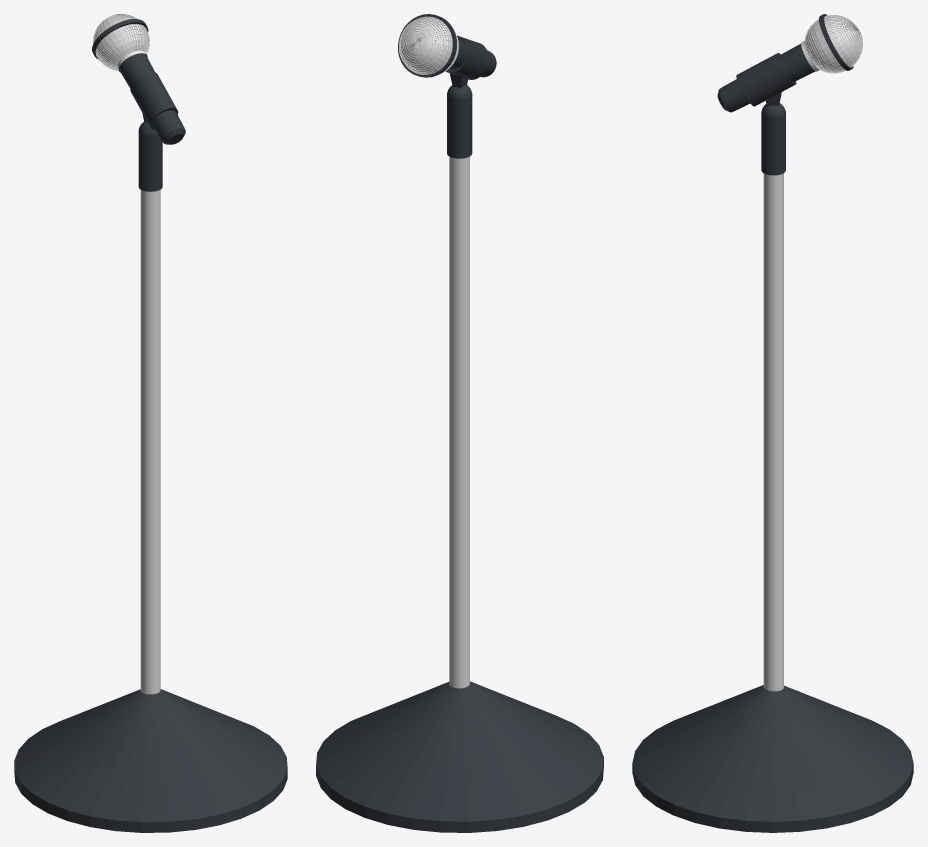
File: mic.glb
The picture shows the model from 3 angles, left to right: view 1: azimuth 30°, elevation 25°; view 2: azimuth 150°, elevation 25°; view 3: azimuth 270°, elevation 25°; orthographic projection. The views are drawn at different scales.
Visible parts, largest first — view 1: stand, maiku, sasae; view 2: stand, maiku, sasae, en-futi; view 3: stand, maiku, sasae.
Boxes of the visible parts, x1=… form: stand: x1=14, y1=121, x2=287, y2=832; maiku: x1=93, y1=14, x2=185, y2=144; sasae: x1=130, y1=72, x2=178, y2=130; stand: x1=316, y1=85, x2=603, y2=832; maiku: x1=399, y1=16, x2=496, y2=77; sasae: x1=446, y1=35, x2=488, y2=79; en-futi: x1=398, y1=14, x2=456, y2=77; stand: x1=632, y1=103, x2=913, y2=832; maiku: x1=717, y1=15, x2=862, y2=112; sasae: x1=736, y1=53, x2=796, y2=106.
Bounding box in the file's own units: 1.65 × 4.89 × 1.65.
8 materials, 5 textured.
